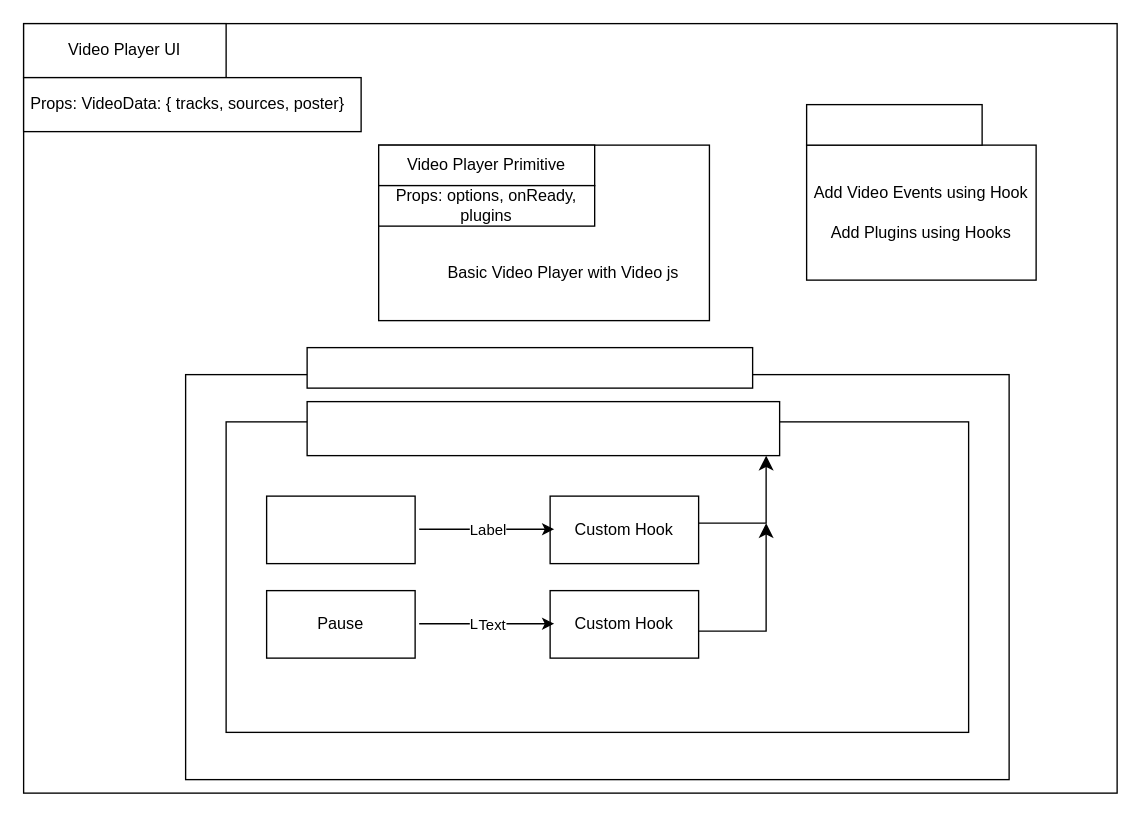
Image size: 1141x817. Some labels were removed from this diagram. The shapes that lost their labels are listed below. From the top down, each one's centre as x and y in pixels, then its label:
At point (893, 124): "On Player Ready".
At point (529, 367): "VideoControl Provider with Player as prop".
At point (543, 428): "Context Provider with video control functions".
At point (340, 529): "Play".
